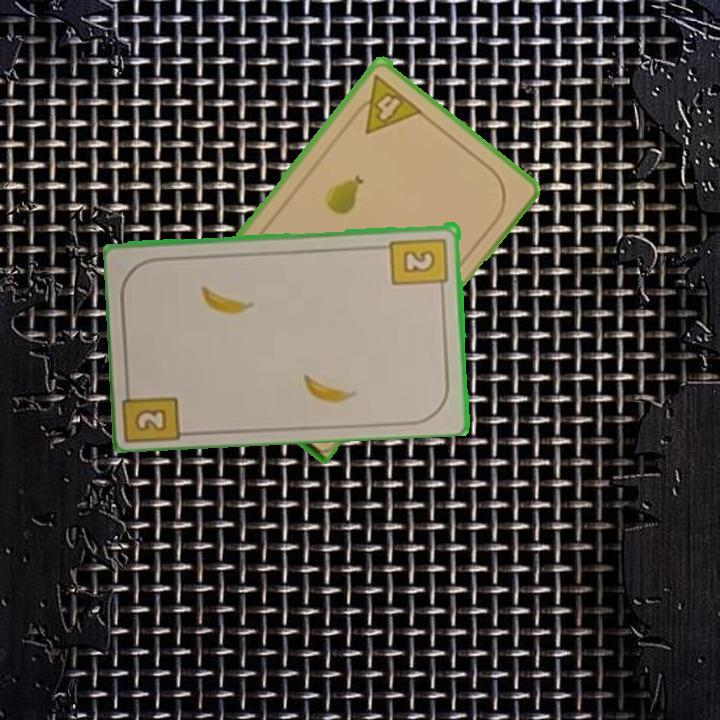2b: (122, 377, 186, 443), (388, 234, 451, 295)
4p: (346, 71, 426, 136)
